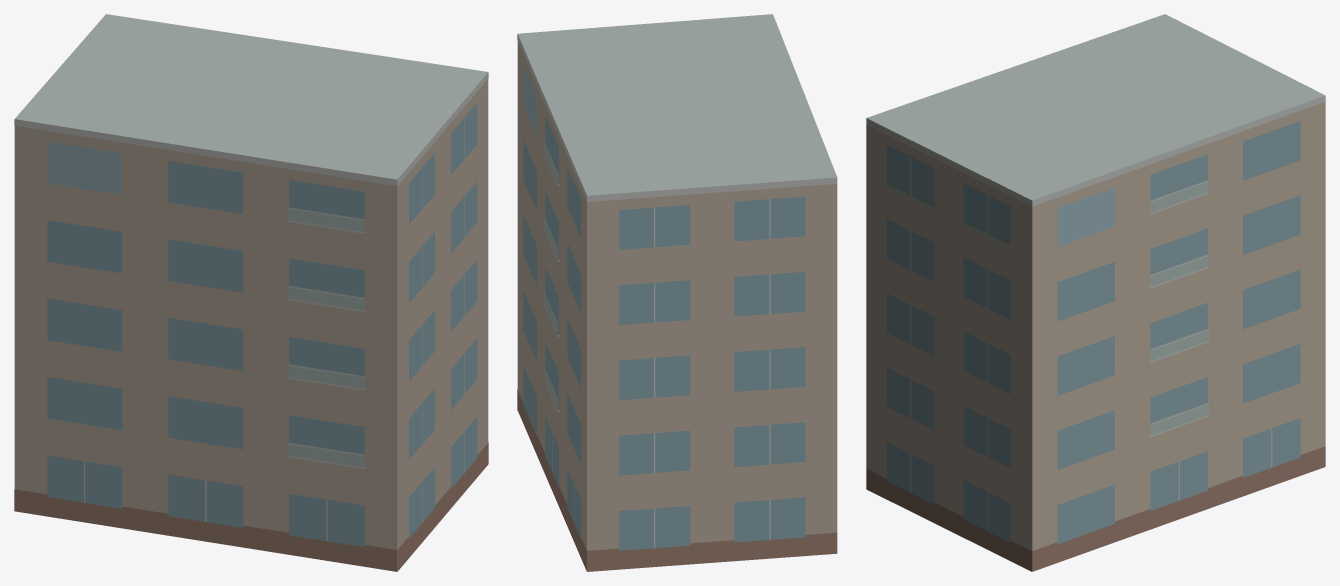
File: survey-upis-32681253.glb
3 renders of one model, left to right at view 1: azimuth 30°, elevation 25°; view 2: azimuth 150°, elevation 25°; view 3: azimuth 270°, elevation 25°, orthographic. The views are drawn at different scales.
Parts seen in each view (by area): view 1: survey-upis-32681253.tmp; view 2: survey-upis-32681253.tmp; view 3: survey-upis-32681253.tmp.
Part boxes in pixels (x1,y1,x2,y2): survey-upis-32681253.tmp: [14, 14, 488, 571]; survey-upis-32681253.tmp: [517, 14, 837, 571]; survey-upis-32681253.tmp: [866, 14, 1325, 571].
Size of the model in its own units: 15.74 by 14.6 by 16.38.
